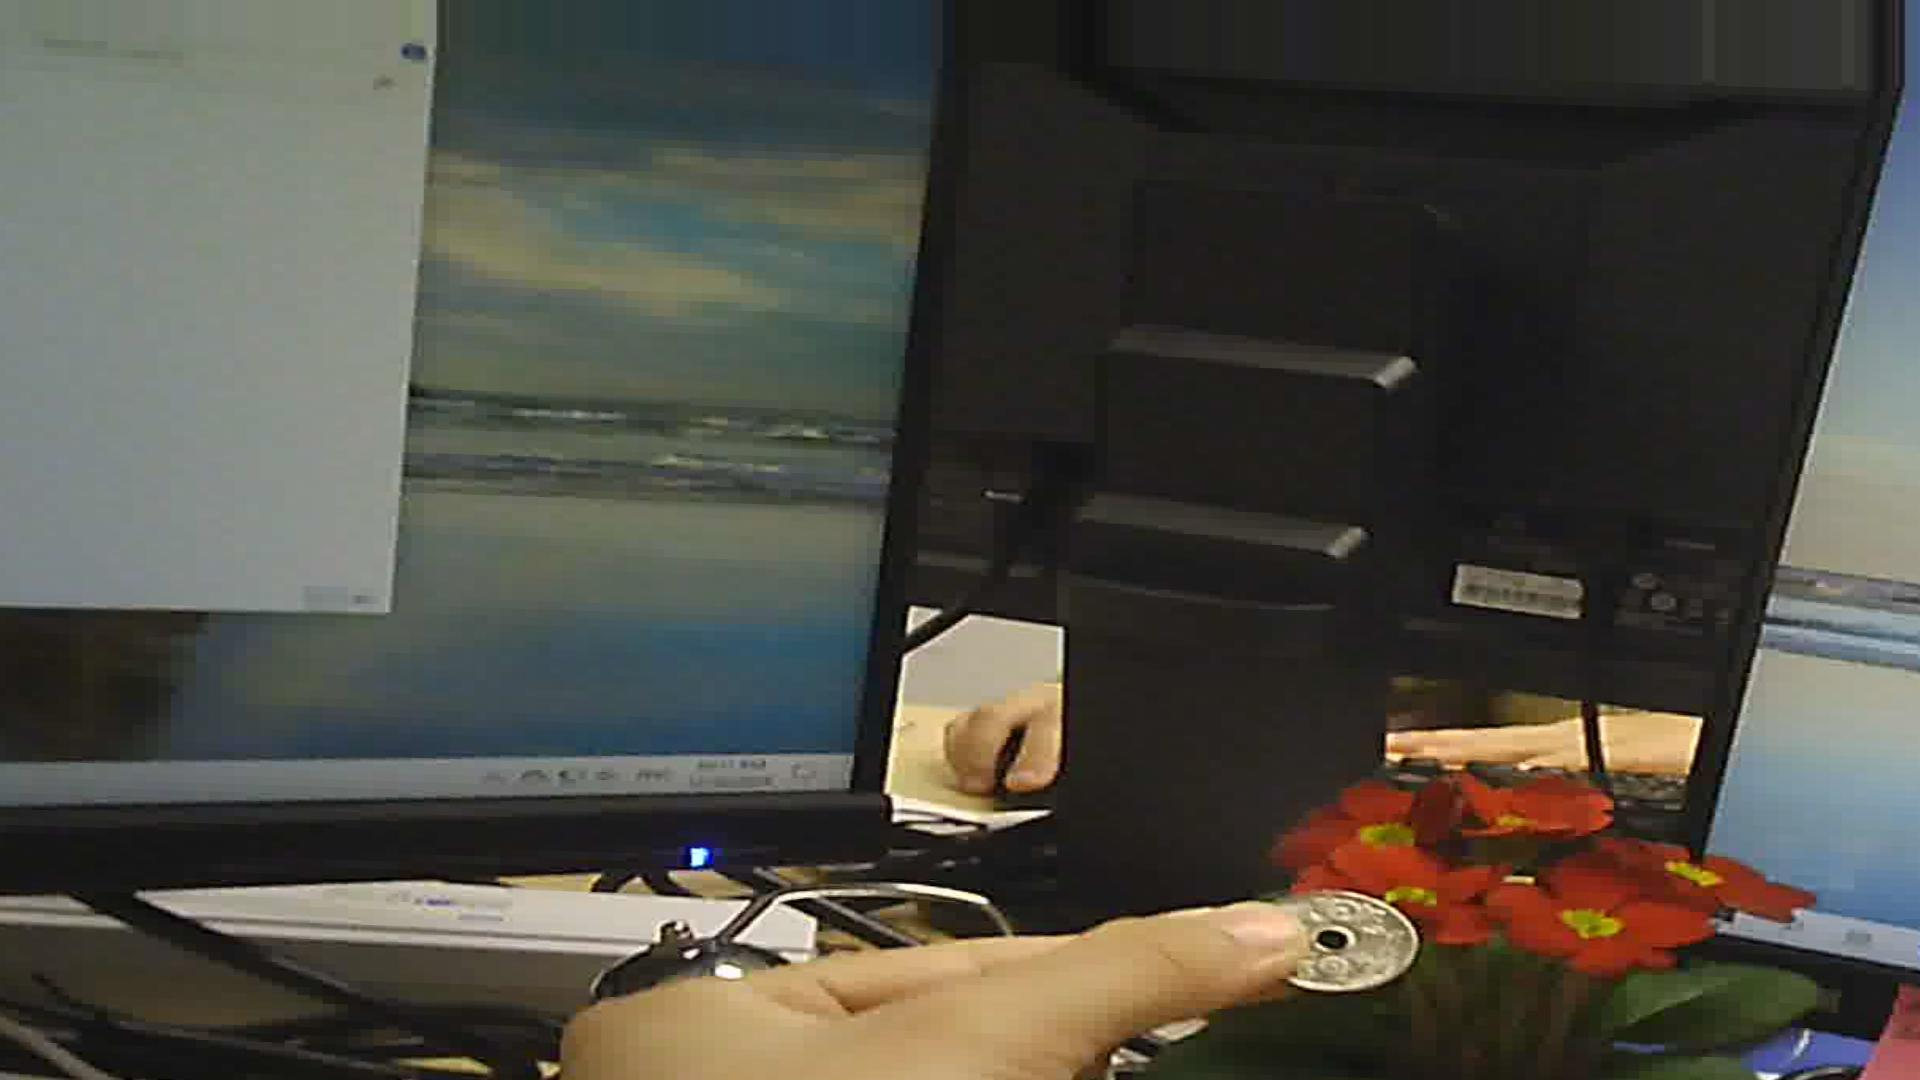50 Yen: (1255, 877, 1419, 998)
